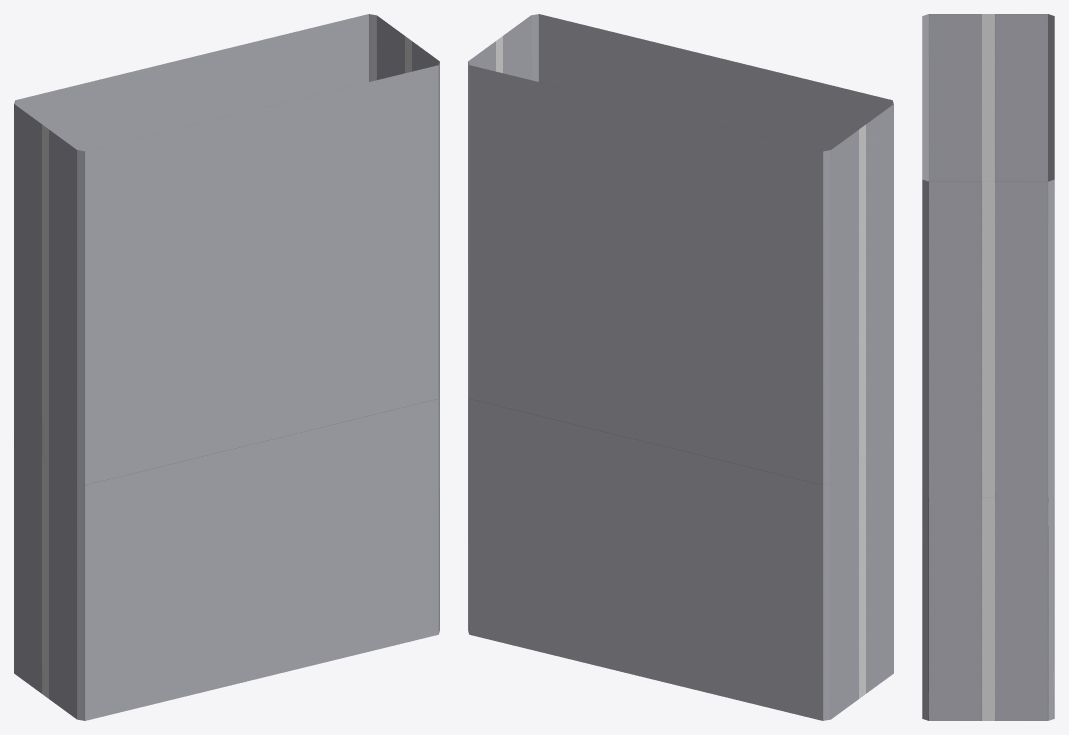
Rendered from Wall_Interior_03.FBX.
The picture shows the model from 3 angles, left to right: view 1: azimuth 30°, elevation 25°; view 2: azimuth 150°, elevation 25°; view 3: azimuth 270°, elevation 25°; orthographic projection. The views are drawn at different scales.
Visible parts, largest first — view 1: Wall_Interior_03; view 2: Wall_Interior_03; view 3: Wall_Interior_03.
Part boxes in pixels (x1,y1,x2,y2): Wall_Interior_03: (14,14,439,720); Wall_Interior_03: (468,14,893,720); Wall_Interior_03: (922,14,1054,720).
Bounding box in the file's own units: 6 × 9 × 2.
Materials: 2 (2 with a texture image).
